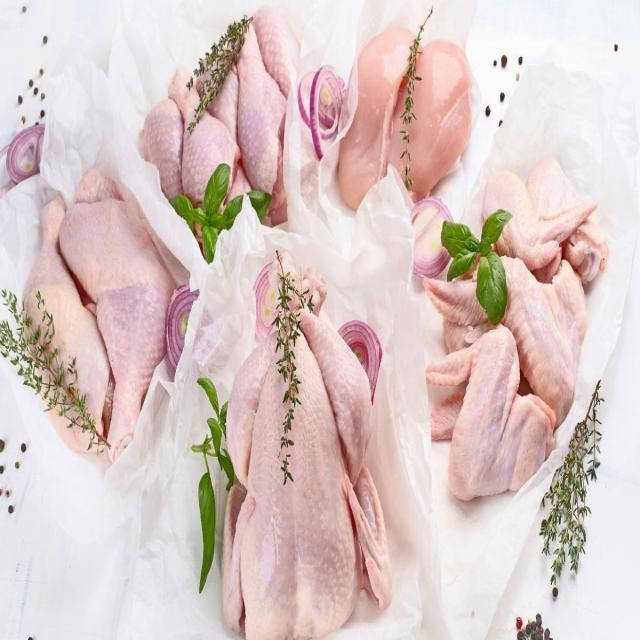Chicken: (196, 257, 424, 640)
